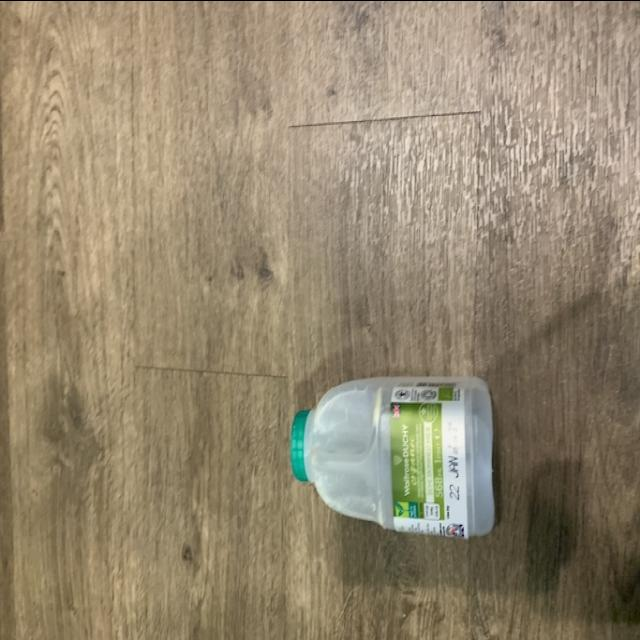litter: (284, 357, 498, 535)
